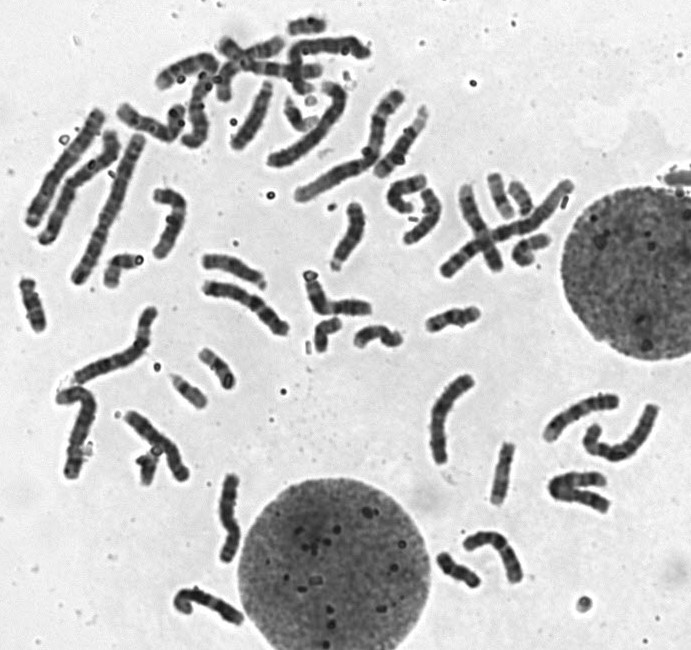chromosomes: (431, 176, 576, 290), (286, 83, 413, 210), (65, 132, 154, 291), (31, 125, 124, 257), (23, 97, 107, 230), (260, 67, 353, 176), (68, 298, 162, 387), (151, 43, 225, 152), (286, 32, 389, 98), (576, 397, 668, 468), (211, 31, 293, 109), (198, 277, 294, 343), (47, 381, 103, 487), (368, 100, 435, 188), (214, 31, 327, 83), (120, 406, 193, 486), (423, 369, 479, 473), (157, 576, 252, 635), (539, 389, 627, 452), (455, 179, 506, 279), (293, 266, 382, 322), (460, 522, 528, 592), (543, 465, 618, 525), (211, 464, 252, 570), (226, 74, 277, 155), (323, 197, 374, 274), (197, 244, 273, 295), (147, 180, 193, 264), (398, 180, 449, 250), (115, 94, 186, 144), (486, 435, 523, 518), (428, 544, 486, 594), (419, 301, 491, 341), (14, 270, 53, 339), (349, 318, 410, 356), (384, 167, 429, 218), (482, 163, 520, 223), (100, 247, 146, 295), (196, 343, 239, 393), (507, 229, 556, 271), (167, 370, 214, 412), (309, 313, 351, 360), (501, 175, 541, 218), (124, 447, 161, 492), (284, 9, 336, 41), (281, 96, 322, 133)
